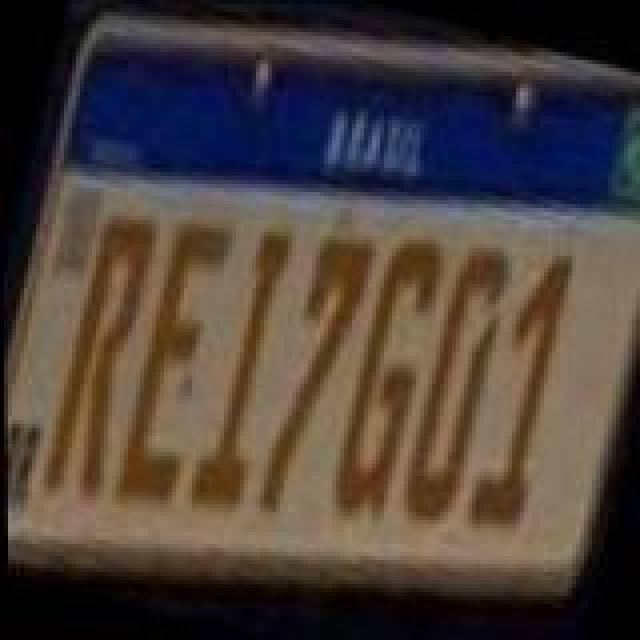1: (460, 244, 584, 540)
7: (252, 228, 380, 528)
D: (390, 236, 518, 532)
E: (106, 214, 238, 518)
G: (322, 228, 454, 532)
I: (182, 220, 306, 516)
R: (34, 202, 166, 510)
